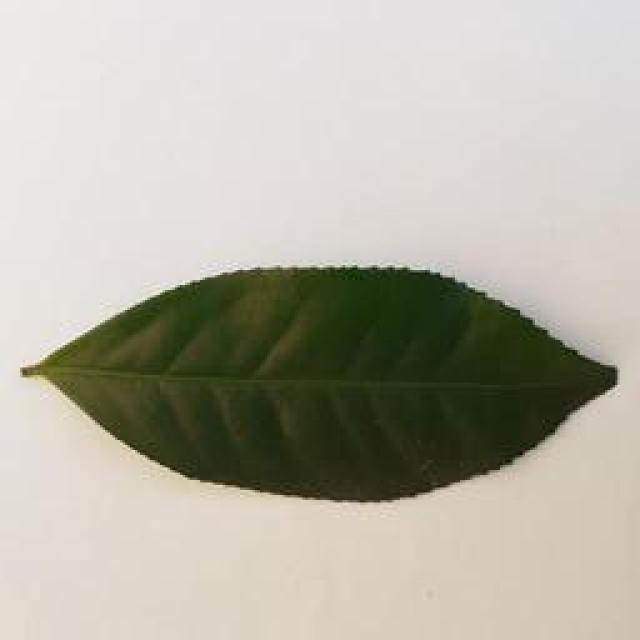Healthy: (2, 252, 640, 513)
